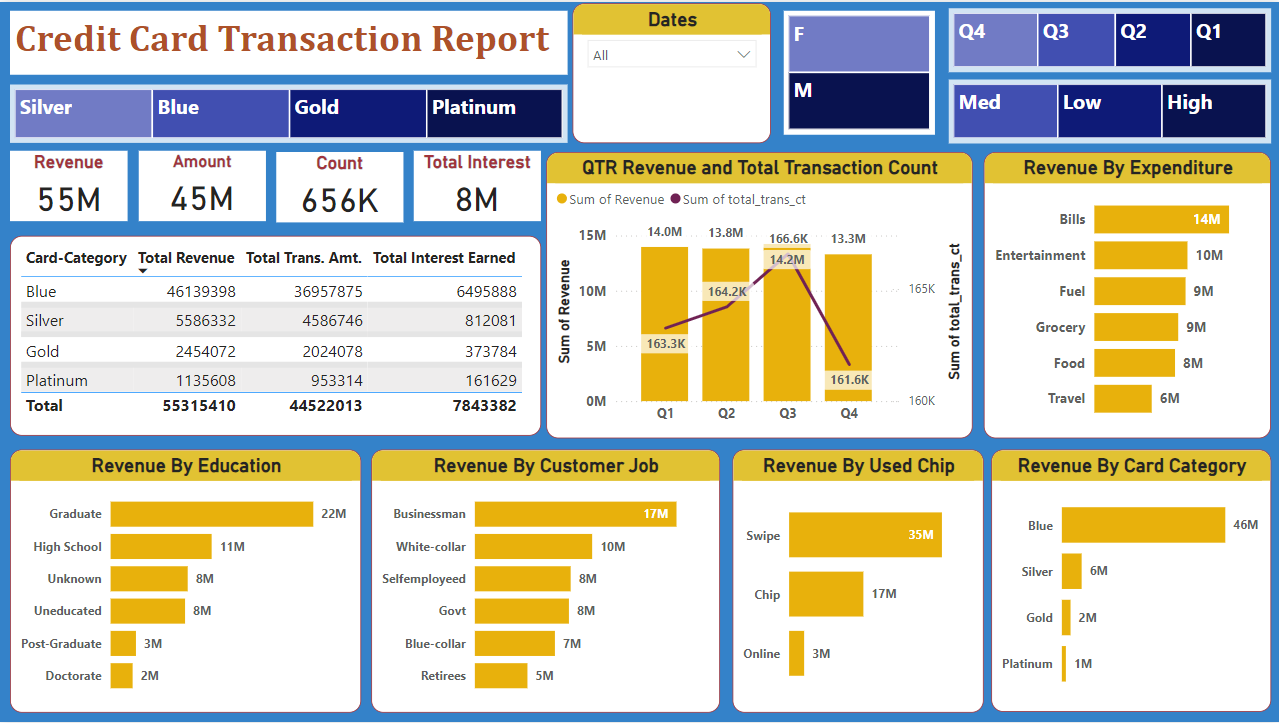

This screenshot's page, from the dashboard's own definition file:
{"tool":"powerbi","page":{"name":"Credit Card Transaction","canvas":[1280,720],"ordinal":1},"visuals":[{"type":"textbox","box":[10,8.8,557.5,63.8],"z":0},{"type":"lineStackedColumnComboChart","title":"QTR Revenue and Total Transaction Count","fields":{"Category":["public cc_detail.qtr"],"Y":["Sum(public cc_detail.Revenue)"],"Y2":["Sum(public cc_detail.total_trans_ct)"]},"box":[546.5,149.6,427.1,287.1],"z":1000},{"type":"barChart","title":"Revenue By Expenditure","fields":{"Y":["Sum(public cc_detail.Revenue)"],"Category":["public cc_detail.exp_type"]},"box":[983.8,150,287.5,286.2],"z":2000},{"type":"barChart","title":"Revenue By Education","fields":{"Y":["Sum(public cc_detail.Revenue)"],"Category":["public cust_detail.education_level"]},"box":[10,447.1,351.4,262.9],"z":3000},{"type":"barChart","title":"Revenue By Customer Job","fields":{"Y":["Sum(public cc_detail.Revenue)"],"Category":["public cust_detail.customer_job"]},"box":[371.4,447.1,348.6,262.9],"z":4000},{"type":"barChart","title":"Revenue By Card Category ","fields":{"Y":["Sum(public cc_detail.Revenue)"],"Category":["public cc_detail.card_category"]},"box":[991.2,447.5,280,262.5],"z":5000},{"type":"barChart","title":"Revenue By Used Chip","fields":{"Y":["Sum(public cc_detail.Revenue)"],"Category":["public cc_detail.use_chip"]},"box":[732.9,447.1,251.4,262.9],"z":6000},{"type":"tableEx","fields":{"Values":["public cc_detail.card_category","Sum(public cc_detail.Revenue)","Sum(public cc_detail.total_trans_amt)","Sum(public cc_detail.interest_earned)"]},"box":[10,234.3,531.4,200],"z":7000},{"type":"card","title":"Revenue","fields":{"Values":["Sum(public cc_detail.Revenue)"]},"box":[10,148.8,117.5,70],"z":8000},{"type":"card","title":"Total Interest","fields":{"Values":["Sum(public cc_detail.interest_earned)"]},"box":[414.3,148.6,127.1,70],"z":9000},{"type":"card","title":"Amount","fields":{"Values":["Sum(public cc_detail.total_trans_amt)"]},"box":[138.6,148.6,127.1,70],"z":10000},{"type":"card","title":"Count","fields":{"Values":["Sum(public cc_detail.total_trans_ct)"]},"box":[275.7,150,127.1,70],"z":11000},{"type":"slicer","title":"Dates","fields":{"Values":["public cc_detail.week_start_date"]},"box":[572.5,1.2,198.8,140],"z":12000},{"type":"treemap","fields":{"Group":["public cc_detail.qtr"],"Values":["Avg(public cc_detail.client_num)"]},"box":[948.8,6.2,322.5,63.8],"z":13000},{"type":"treemap","fields":{"Group":["public cust_detail.gender"],"Values":["Avg(public cc_detail.client_num)"]},"box":[783.8,8.8,151.2,123.8],"z":14000},{"type":"treemap","fields":{"Group":["public cc_detail.card_category","public cc_detail.qtr"],"Values":["Avg(public cc_detail.client_num)"]},"box":[10,82.5,557.5,58.8],"z":15000},{"type":"treemap","fields":{"Group":["public cust_detail.IncomeGroup"],"Values":["Avg(public cc_detail.client_num)"]},"box":[948.8,77.5,322.5,63.8],"z":16000}]}

Visuals, with their boxes in screenshot pixels (x1, y1, x2, y2), scaled from the page's 1280x720 canvas onto the 1279x723 screenshot:
textbox: [x1=10, y1=9, x2=567, y2=73]
"QTR Revenue and Total Transaction Count" lineStackedColumnComboChart: [x1=546, y1=150, x2=973, y2=439]
"Revenue By Expenditure" barChart: [x1=983, y1=151, x2=1270, y2=438]
"Revenue By Education" barChart: [x1=10, y1=449, x2=361, y2=713]
"Revenue By Customer Job" barChart: [x1=371, y1=449, x2=719, y2=713]
"Revenue By Card Category " barChart: [x1=990, y1=449, x2=1270, y2=713]
"Revenue By Used Chip" barChart: [x1=732, y1=449, x2=984, y2=713]
tableEx - public cc_detail.card_category x Sum(public cc_detail.Revenue): [x1=10, y1=235, x2=541, y2=436]
"Revenue" card: [x1=10, y1=149, x2=127, y2=220]
"Total Interest" card: [x1=414, y1=149, x2=541, y2=220]
"Amount" card: [x1=138, y1=149, x2=265, y2=220]
"Count" card: [x1=275, y1=151, x2=402, y2=221]
"Dates" slicer: [x1=572, y1=1, x2=771, y2=142]
treemap - public cc_detail.qtr x Avg(public cc_detail.client_num): [x1=948, y1=6, x2=1270, y2=70]
treemap - public cust_detail.gender x Avg(public cc_detail.client_num): [x1=783, y1=9, x2=934, y2=133]
treemap - public cc_detail.card_category x public cc_detail.qtr: [x1=10, y1=83, x2=567, y2=142]
treemap - public cust_detail.IncomeGroup x Avg(public cc_detail.client_num): [x1=948, y1=78, x2=1270, y2=142]
